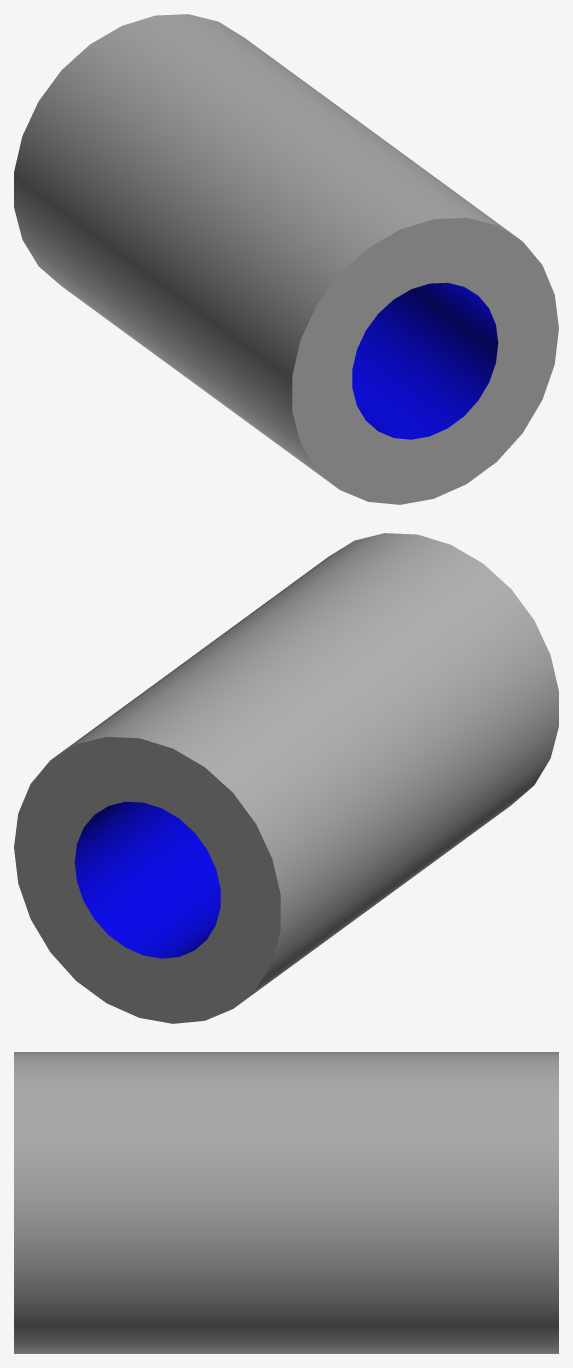
File: Tube_Medium.fbx
The picture shows the model from 3 angles, top to bottom: view 1: azimuth 30°, elevation 25°; view 2: azimuth 150°, elevation 25°; view 3: azimuth 270°, elevation 25°; orthographic projection. The views are drawn at different scales.
Parts seen in each view (by area): view 1: pasted__RingBig; view 2: pasted__RingBig; view 3: pasted__RingBig.
Boxes of the visible parts, box(x1,y1,x2,y2) form: pasted__RingBig: box(14, 14, 558, 504); pasted__RingBig: box(14, 533, 558, 1023); pasted__RingBig: box(14, 1052, 558, 1353).
Size of the model in its own units: 1.24 by 1.24 by 2.24.
